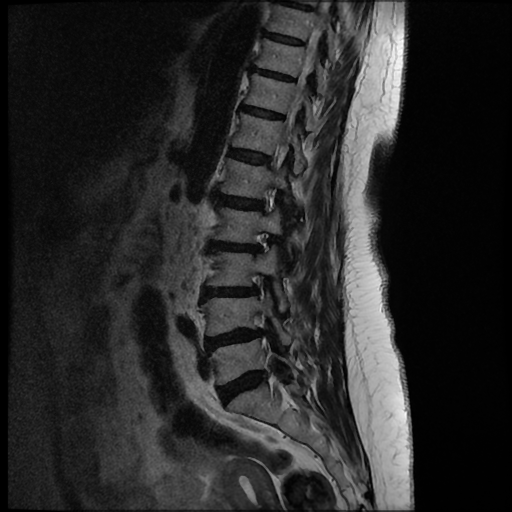LFS0: (250, 179, 284, 220)
LFS1: (246, 224, 284, 263), (241, 266, 275, 305)
